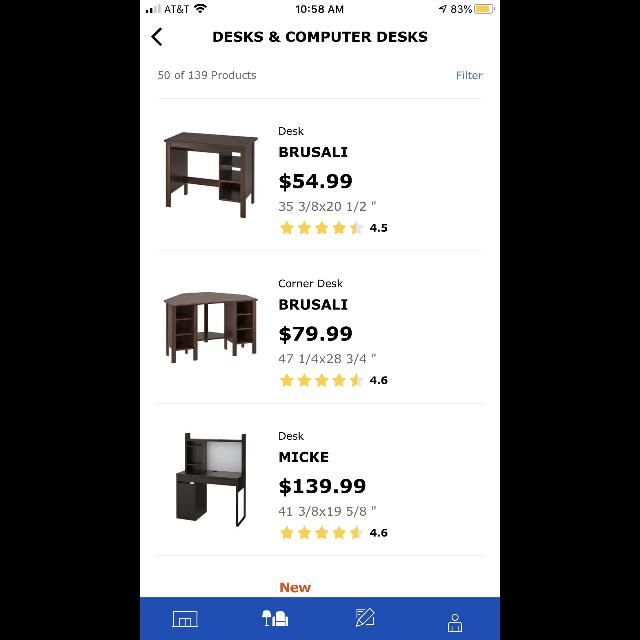icon: (280, 525, 364, 539), (280, 373, 364, 387), (280, 221, 364, 235), (356, 608, 374, 626), (448, 614, 462, 632), (152, 28, 162, 46)
image: (164, 132, 258, 218), (164, 292, 258, 364), (176, 433, 246, 527), (262, 610, 288, 626), (172, 611, 198, 627)
text: (213, 32, 427, 42), (280, 478, 366, 496), (280, 174, 352, 192), (280, 326, 352, 344), (278, 354, 376, 366), (278, 507, 376, 518), (280, 202, 376, 212), (280, 146, 348, 158), (158, 71, 256, 79), (280, 300, 348, 310), (279, 280, 343, 288), (280, 452, 328, 462), (280, 583, 312, 593), (457, 71, 483, 79), (280, 127, 304, 135), (280, 432, 304, 440), (370, 224, 388, 232), (370, 529, 388, 537)
uppertaskbar: (140, 0, 500, 14)
